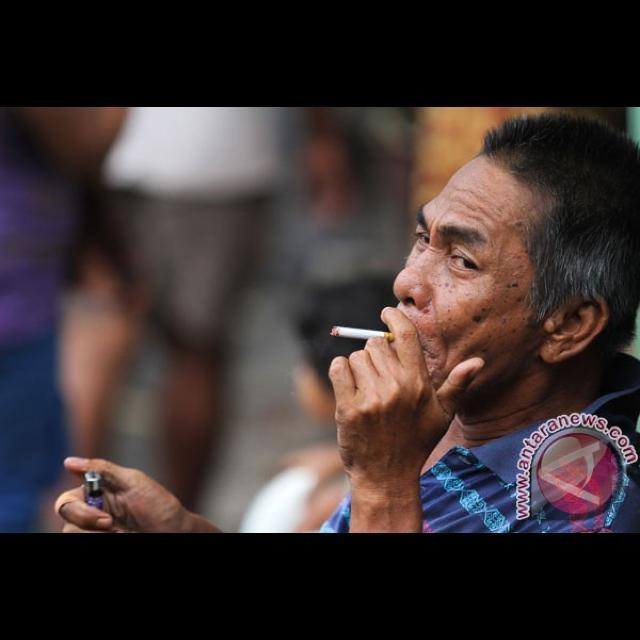rokok: (326, 320, 396, 346)
